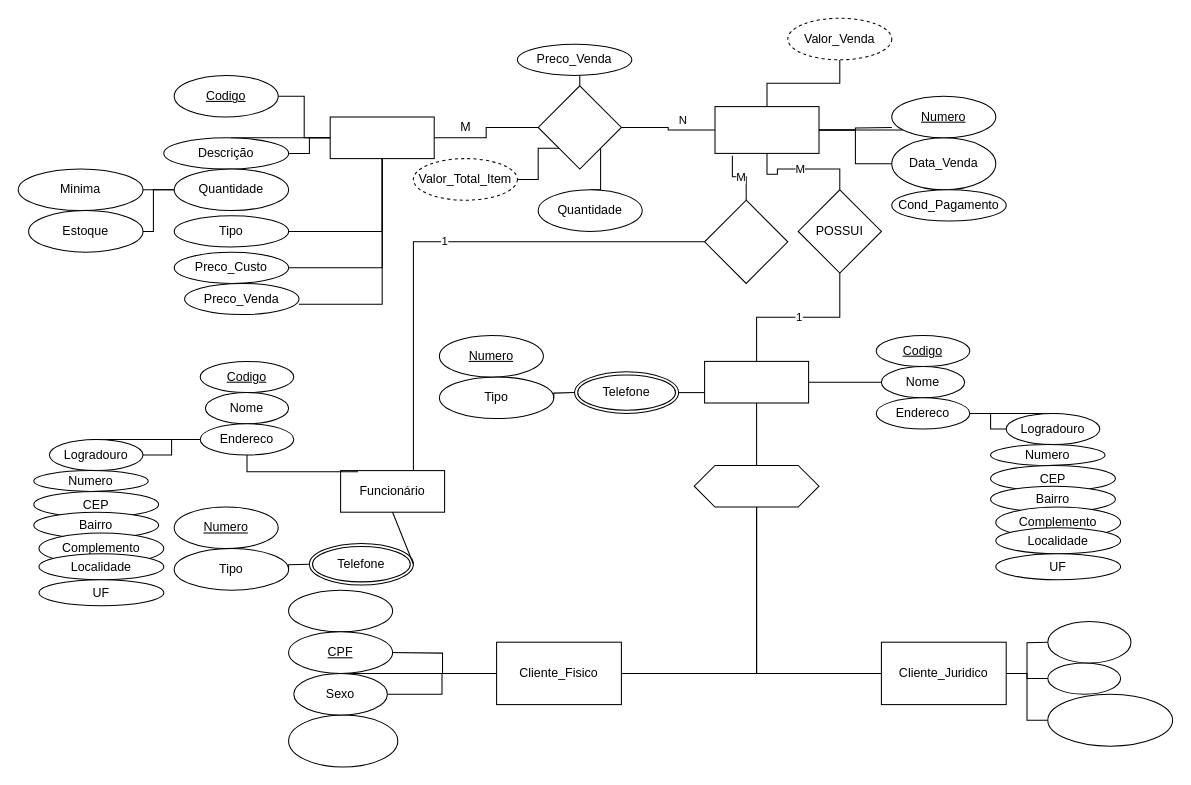
Image size: 1191x785. Some labels were removed from this diagram. Here are the shapes that lost their labels. From the top down, the box of each, then its label:
(329, 116, 434, 159): Produto
(537, 85, 621, 169): TEM
(714, 106, 819, 153): VENDA
(704, 199, 788, 283): FAZ
(704, 360, 809, 403): Pessoa
(693, 464, 819, 507): T / D
(288, 589, 393, 632): RG
(1047, 620, 1131, 663): CNPJ
(1047, 662, 1121, 694): IE
(1047, 693, 1173, 746): Nome_Responsável
(288, 714, 398, 767): Data_Nascimento
